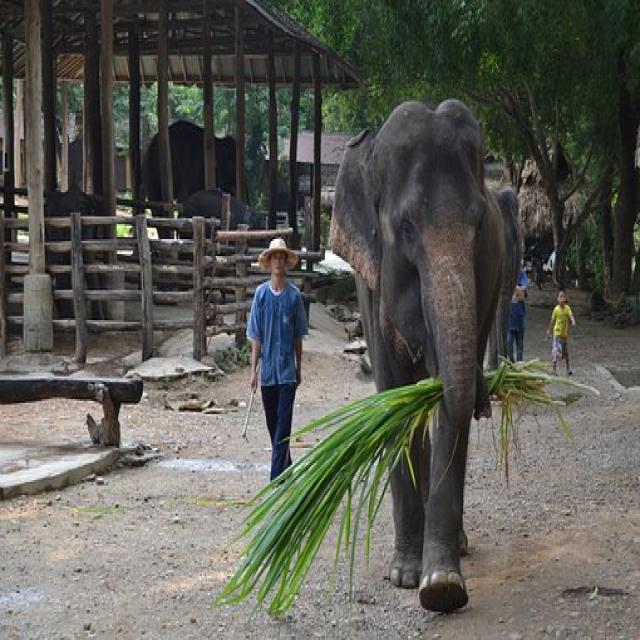Elephant: (324, 74, 537, 620)
